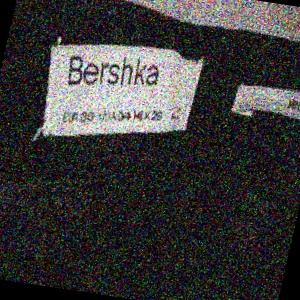bershka: (126, 23, 207, 109)
